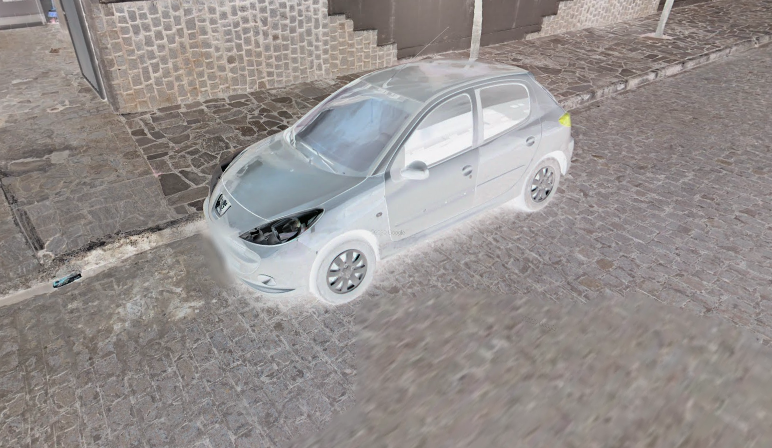car: (197, 25, 574, 308)
